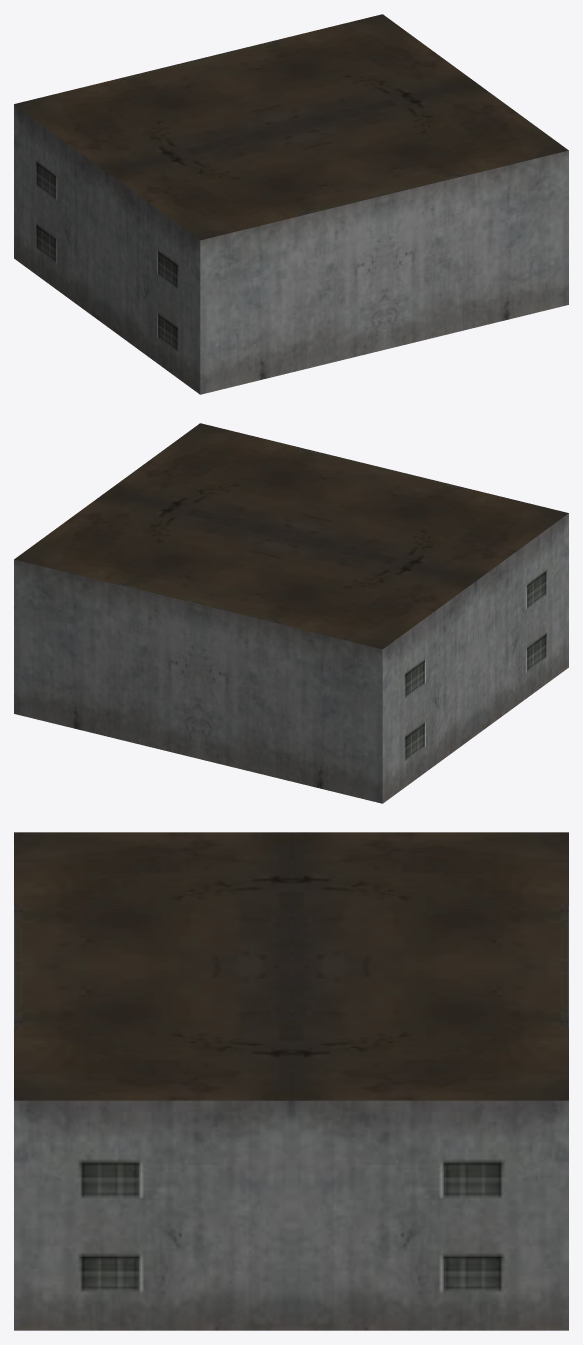
Rendered from factoryBlock.glb.
3 renders of one model, top to bottom at view 1: azimuth 30°, elevation 25°; view 2: azimuth 150°, elevation 25°; view 3: azimuth 270°, elevation 25°, orthographic. The views are drawn at different scales.
Parts seen in each view (by area): view 1: factoryBlock; view 2: factoryBlock; view 3: factoryBlock.
Boxes of the visible parts, box(x1,y1,x2,y2) form: factoryBlock: box(14, 14, 568, 394); factoryBlock: box(14, 423, 568, 803); factoryBlock: box(14, 832, 568, 1330).
Size of the model in its own units: 16 by 6.4 by 14.
1 material, 1 textured.
